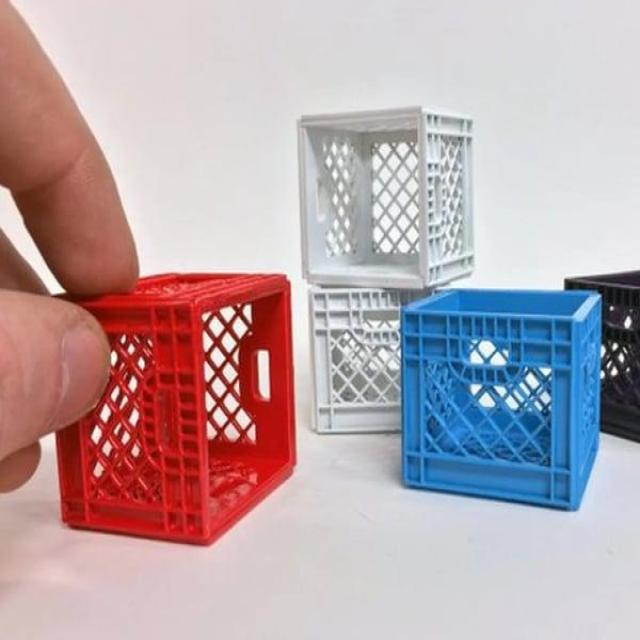Without deffect: (43, 88, 609, 562)
